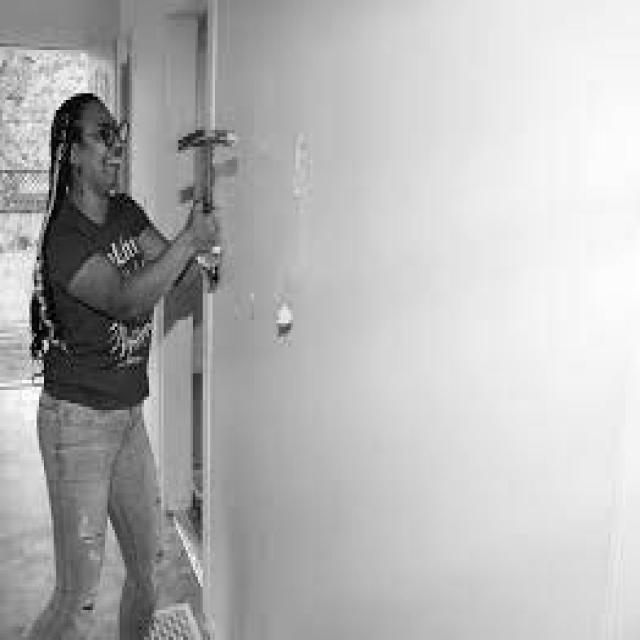stand: (28, 78, 171, 640)
